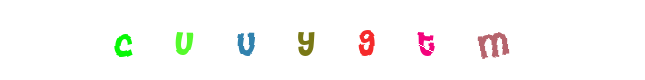9: (286, 0, 366, 80)
C: (114, 0, 194, 80)
M: (435, 0, 515, 80)
T: (353, 0, 433, 80)
U: (206, 0, 286, 80), (266, 0, 346, 80)
Y: (282, 0, 362, 80)
